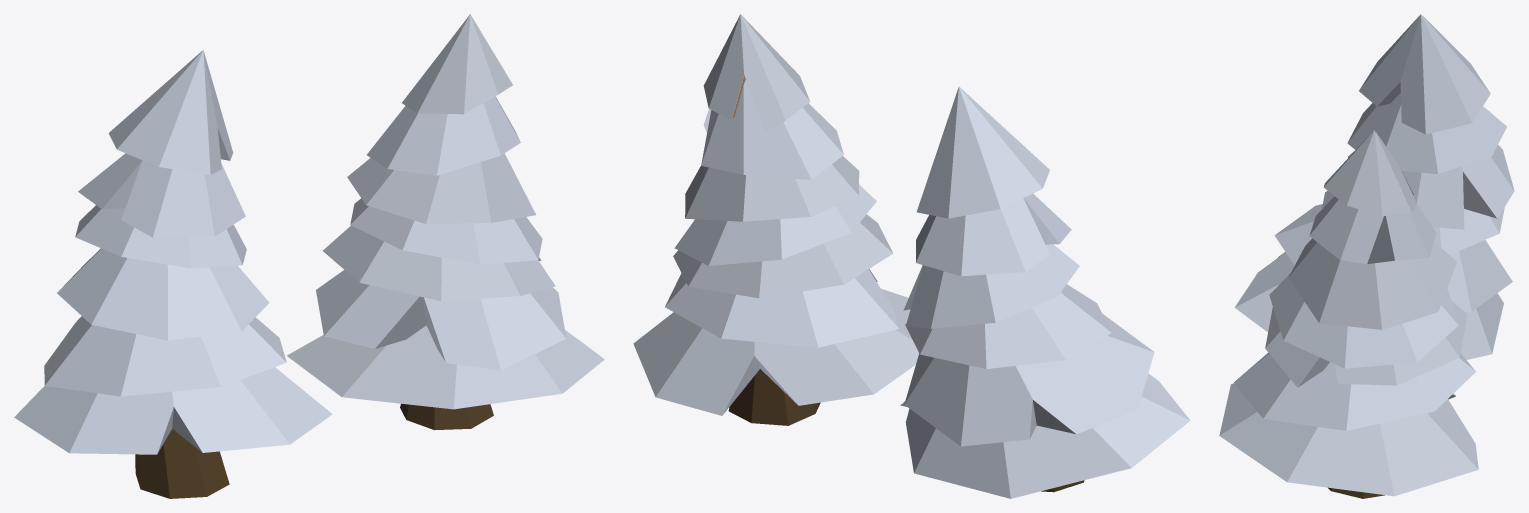
Rendered from arbe blanc.fbx.
3 views of the same model, side by side, from view 1: azimuth 30°, elevation 25°; view 2: azimuth 150°, elevation 25°; view 3: azimuth 270°, elevation 25° (orthographic). The views are drawn at different scales.
Parts seen in each view (by area): view 1: ARBE, ARBE.001; view 2: ARBE, ARBE.001; view 3: ARBE.001, ARBE.
Part boxes in pixels (box(x1,y1,x2,y2)): ARBE: box(14, 50, 332, 498); ARBE.001: box(287, 14, 604, 430); ARBE: box(900, 86, 1190, 498); ARBE.001: box(633, 14, 919, 425); ARBE.001: box(1219, 130, 1478, 498); ARBE: box(1234, 14, 1514, 359).
Bounding box in the file's own units: 1530 × 1107 × 801.
